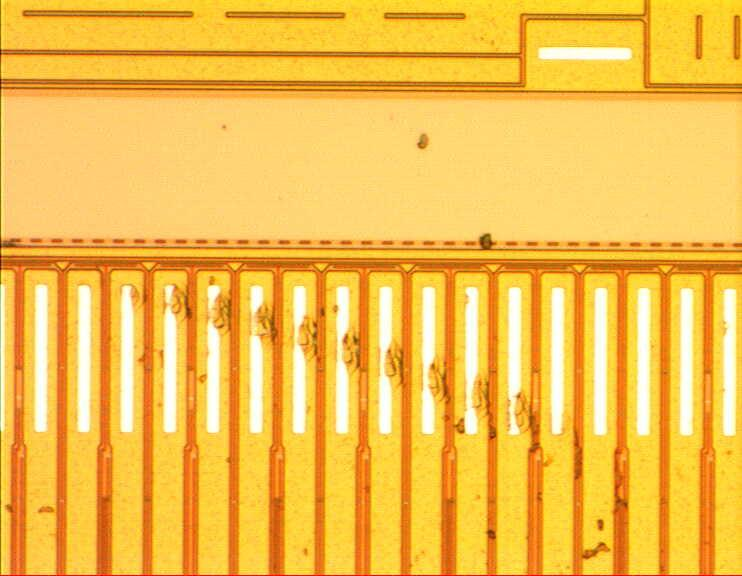PO CONTAMINATION: (4, 118, 639, 576)
